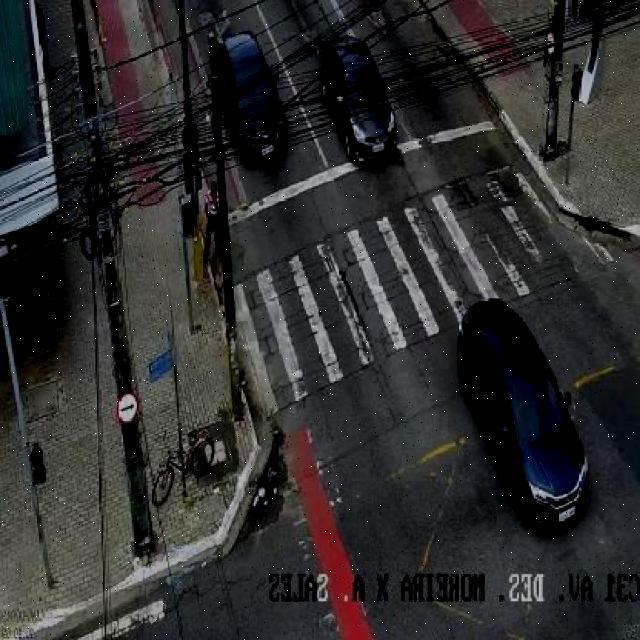Car: (453, 296, 593, 537), (211, 28, 287, 165), (318, 36, 399, 162)
Cycle: (147, 427, 215, 506)
